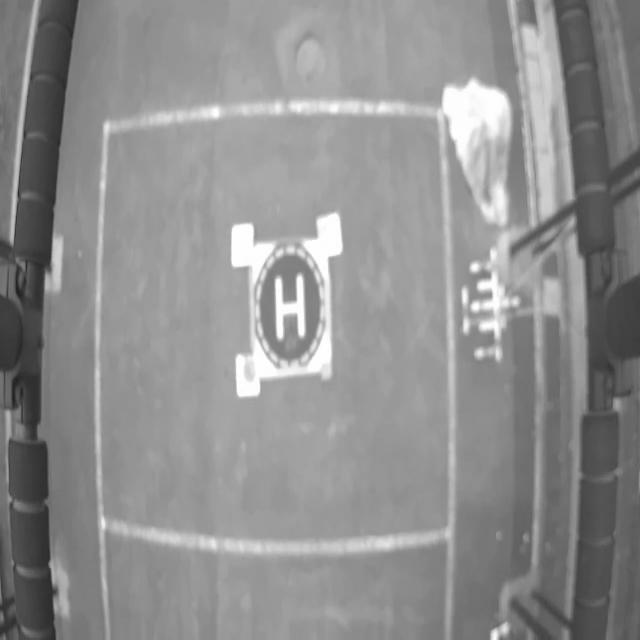Helipad: (275, 276, 306, 339)
